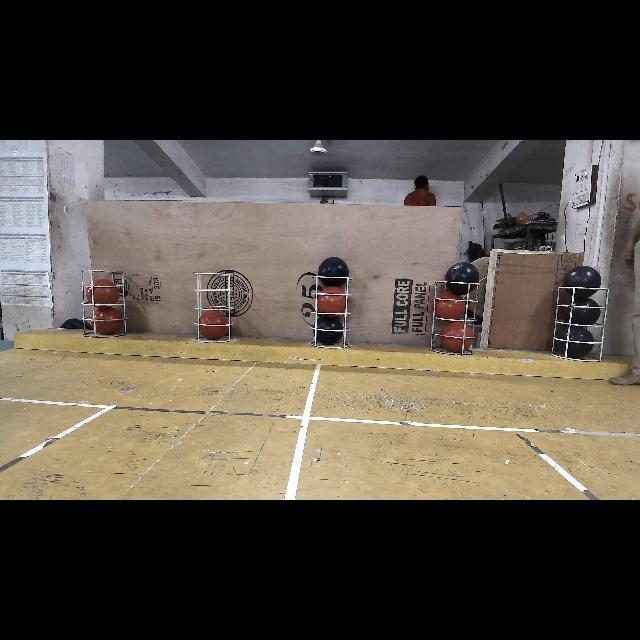P: (562, 265, 601, 299), (445, 262, 480, 295), (558, 327, 594, 357), (564, 299, 600, 327), (314, 315, 344, 345), (319, 256, 349, 286)
R: (440, 322, 472, 352), (86, 280, 120, 308), (198, 309, 228, 339), (318, 286, 348, 316), (434, 292, 464, 322), (91, 308, 123, 334)
S: (543, 282, 611, 363), (426, 280, 482, 360), (304, 271, 352, 349), (80, 266, 130, 340), (193, 266, 239, 342)
